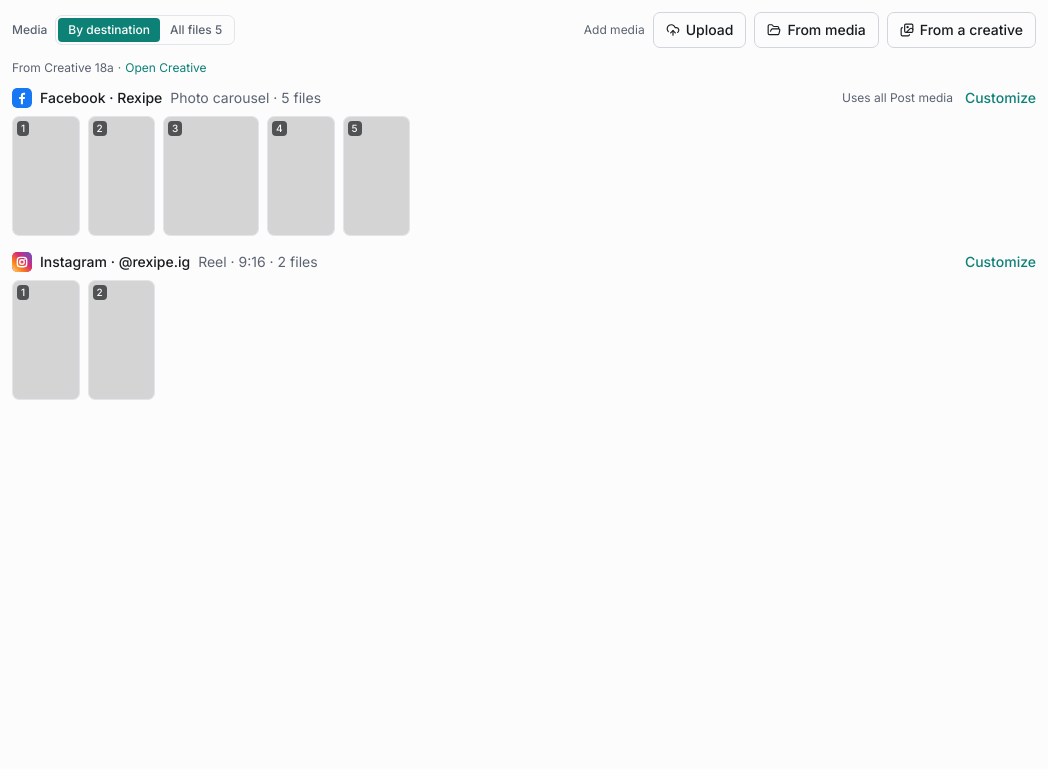
Test: PostMediaSection › All files groups by Creative placement, library and uploads, and flags unused files
The image size is (1048, 769).
Click the radio button labelled "All files 5": (196, 30) [160,18,232,42]
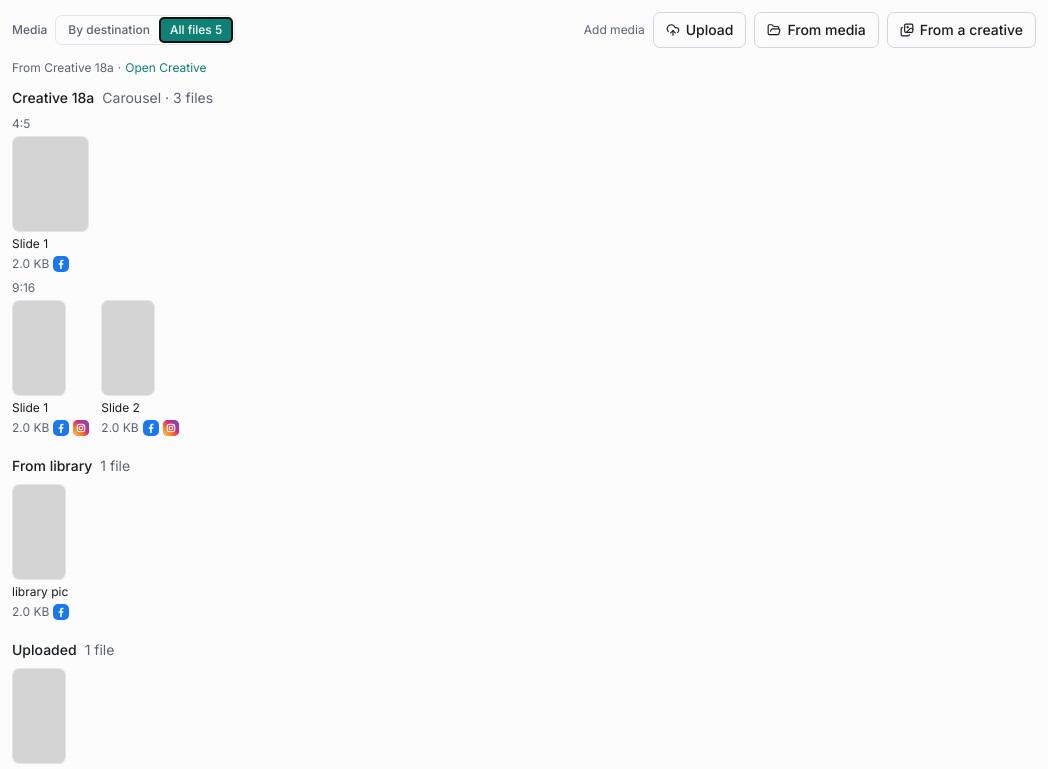
Expected: the text "9:16" is shown, [12,280,35,295]
Result: the text "4:5" is shown at [12,116,30,131]
Result: the text "Carousel · 3 files" is shown at [102,88,213,108]
